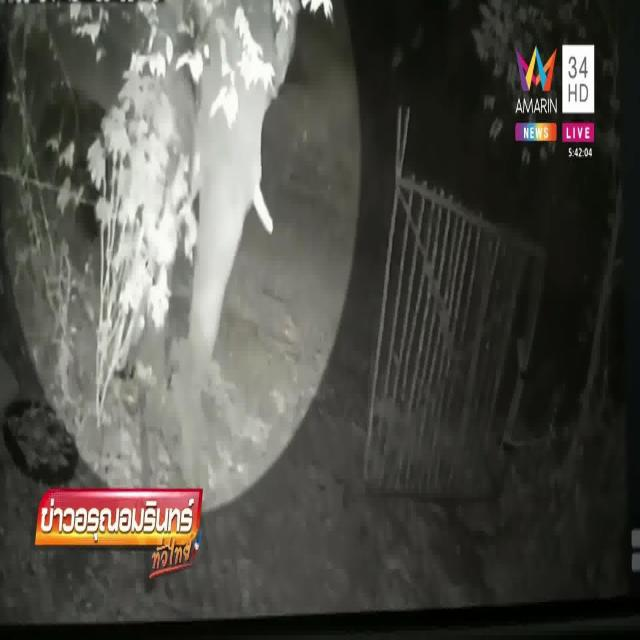Elephant: (157, 0, 311, 359)
